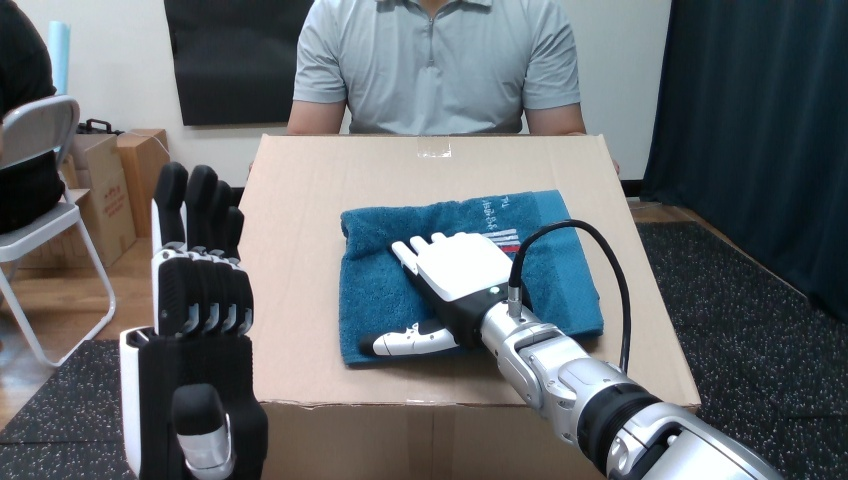left robot hand: (360, 220, 780, 479), (120, 162, 267, 478), (521, 226, 624, 369)
